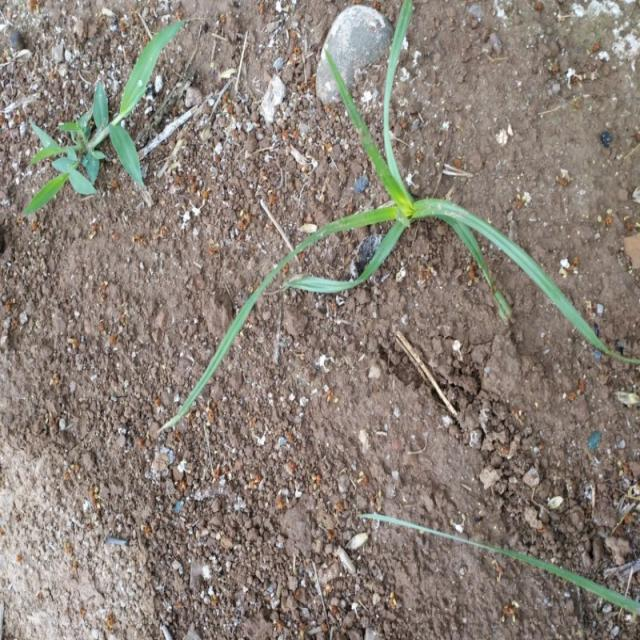sedge: (182, 10, 588, 403)
